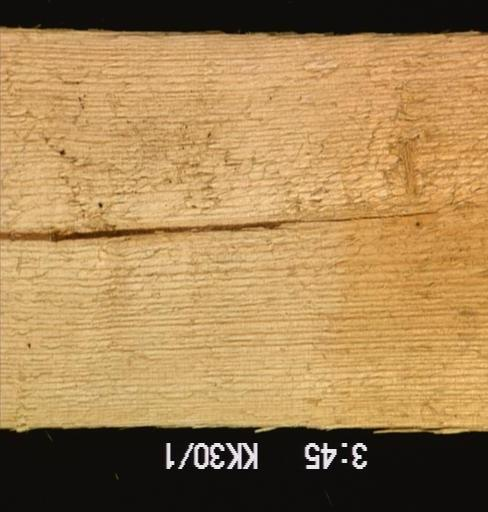split: (286, 210, 440, 227)
